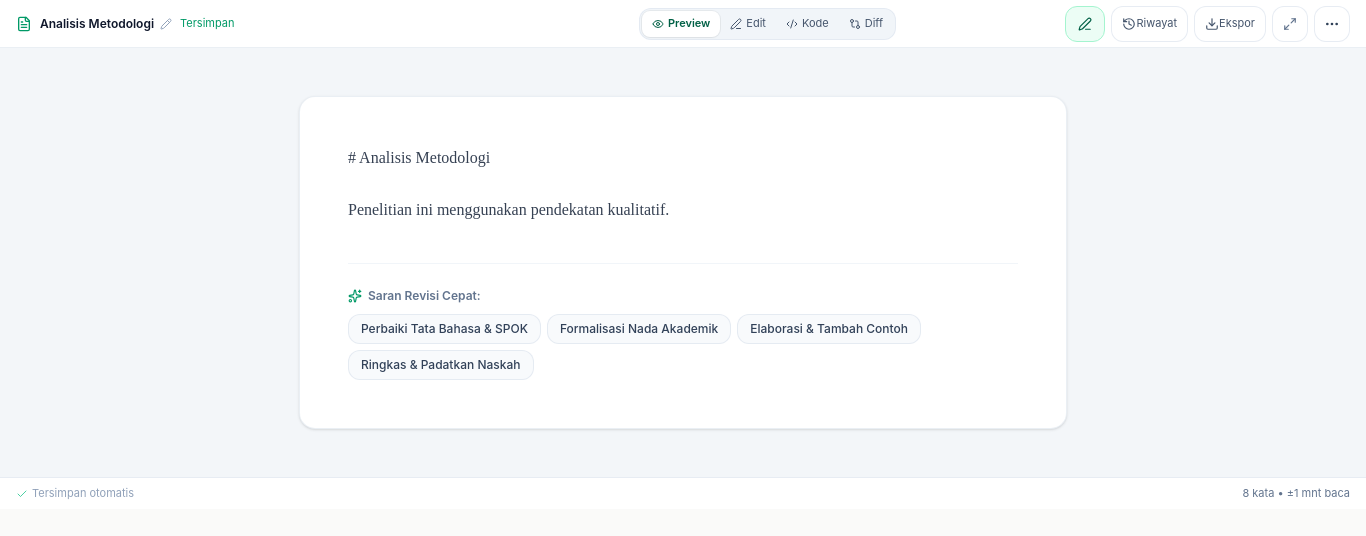
Test case: Workspace Canvas 2.0 UX & Behavior › keeps the canvas header focused on the document and save state
This screenshot has width=1366, height=536.
expect the text "Analisis Metodologi" is shown: met, box top-left (40, 16), bottom-right (154, 32)
expect the text "Tersimpan" is shown: met, box top-left (180, 15), bottom-right (234, 32)
Click the button named "Menu Opsi Lainnya". click: coordinates (1332, 24)
box: top-left (1314, 6), bottom-right (1350, 42)
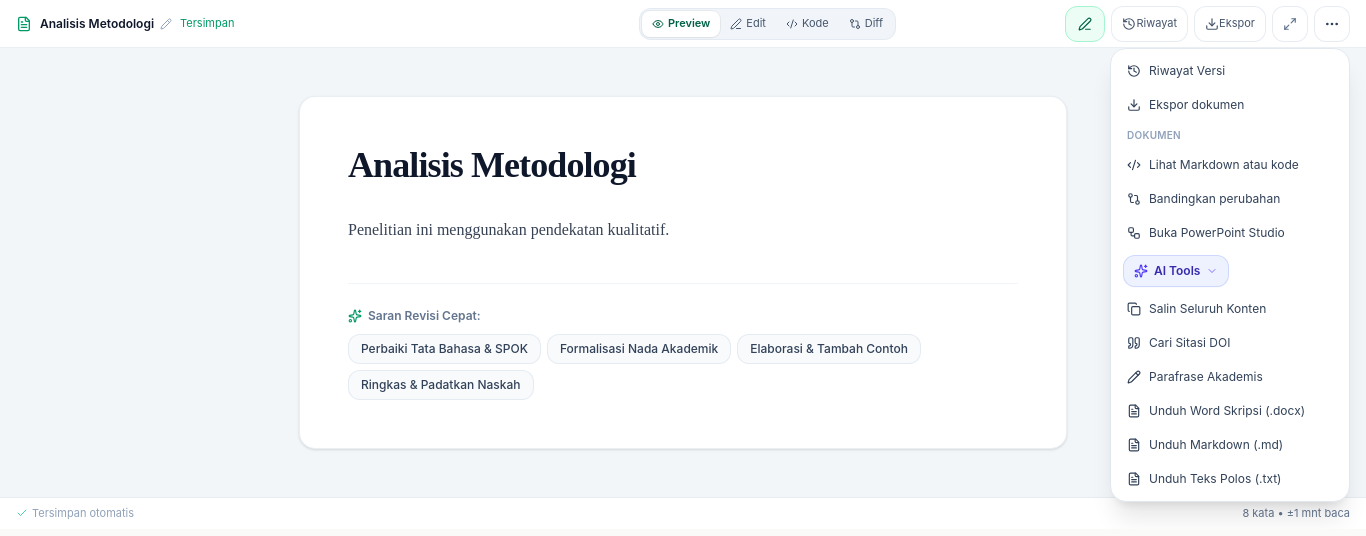
expect the button "Riwayat Versi" is shown: met, box top-left (1117, 54), bottom-right (1343, 86)
